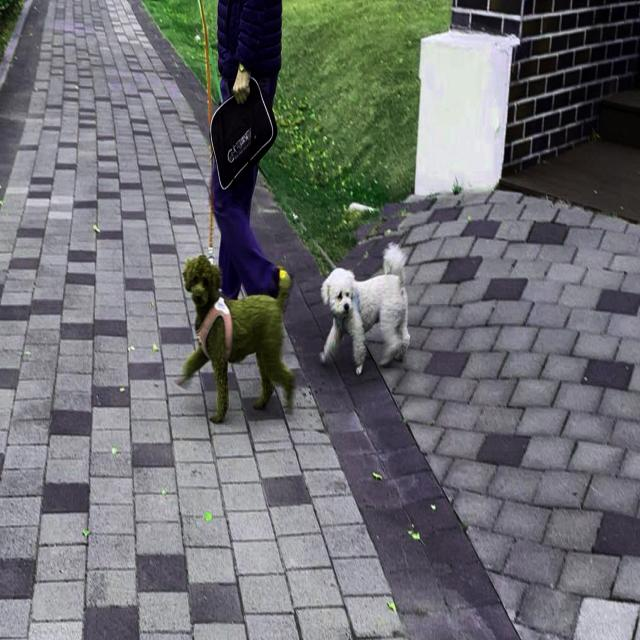Leashed_Dog: (175, 0, 411, 379), (174, 0, 295, 428)
